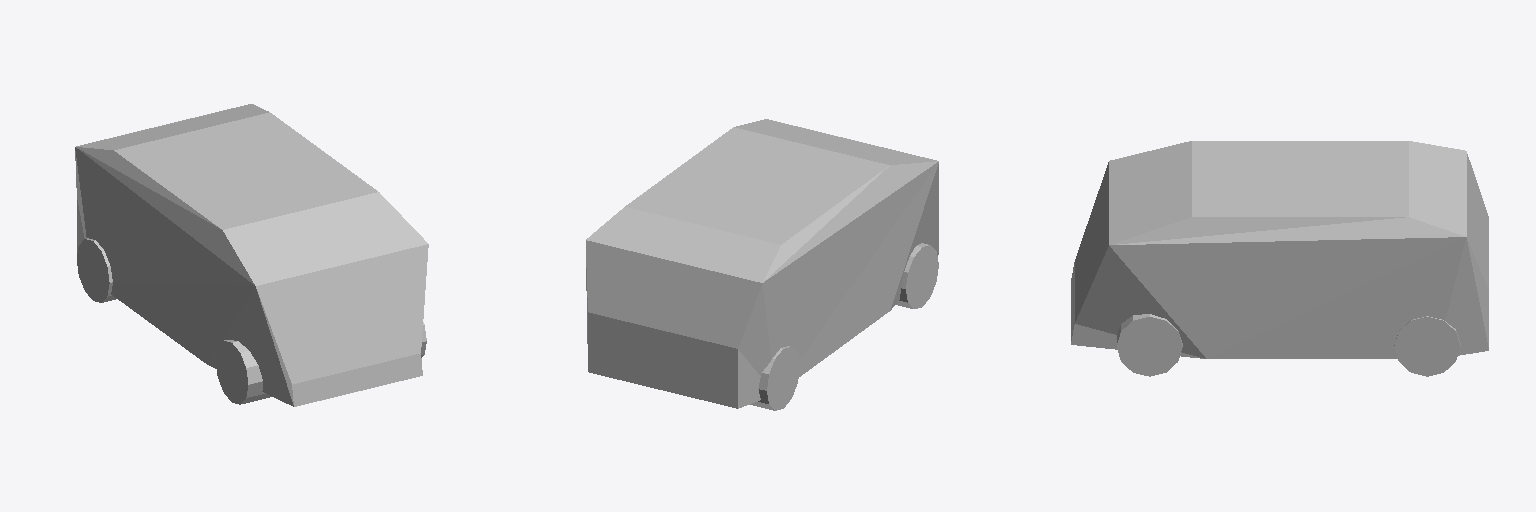
File: tram1.obj
3 views of the same model, side by side, from view 1: azimuth 30°, elevation 25°; view 2: azimuth 150°, elevation 25°; view 3: azimuth 270°, elevation 25° (orthographic).
Size of the model in its own units: 2.09 by 1.73 by 4.25.